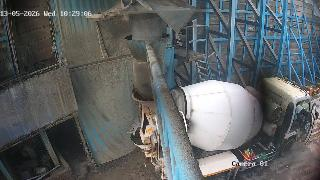cement_mixer_truck: (129, 79, 314, 180)
swing_chute: (123, 33, 171, 95)
